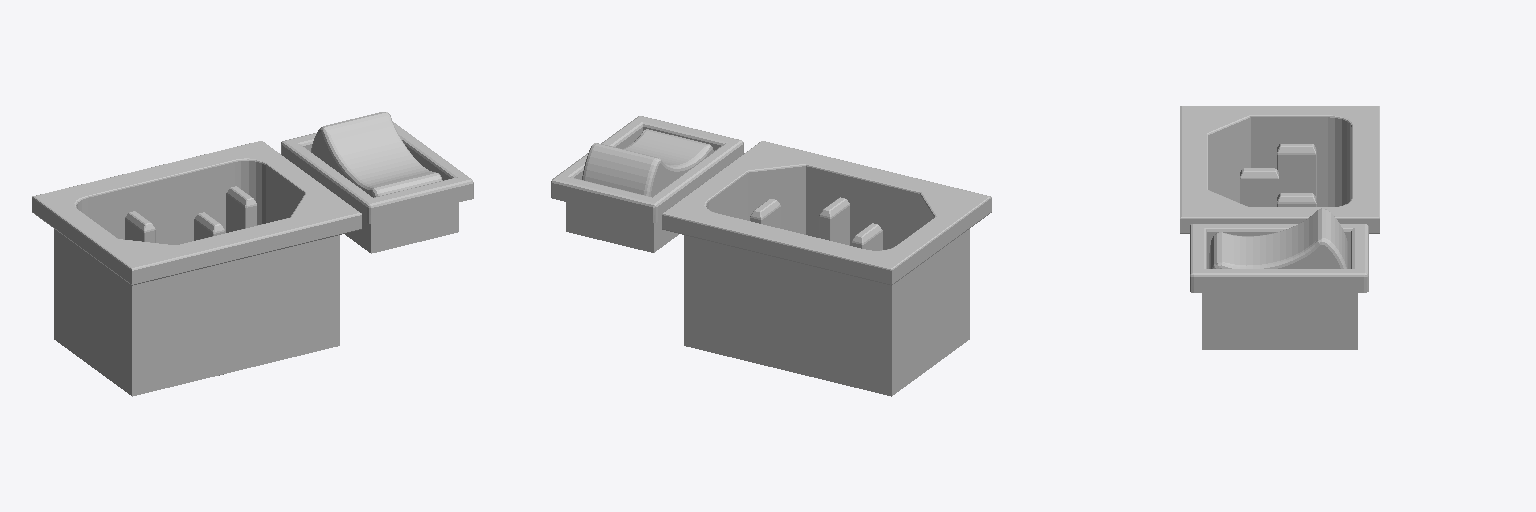
Rendered from power conektor.obj.
3 views of the same model, side by side, from view 1: azimuth 30°, elevation 25°; view 2: azimuth 150°, elevation 25°; view 3: azimuth 270°, elevation 25° (orthographic).
Visible parts, largest first — view 1: power_conektor_Cylinder.008; view 2: power_conektor_Cylinder.008; view 3: power_conektor_Cylinder.008.
Boxes of the visible parts, x1,y1,x2,y2 form: power_conektor_Cylinder.008: [32, 112, 473, 396]; power_conektor_Cylinder.008: [551, 116, 991, 396]; power_conektor_Cylinder.008: [1180, 106, 1379, 349].
Size of the model in its own units: 0.046 by 0.023 by 0.023.